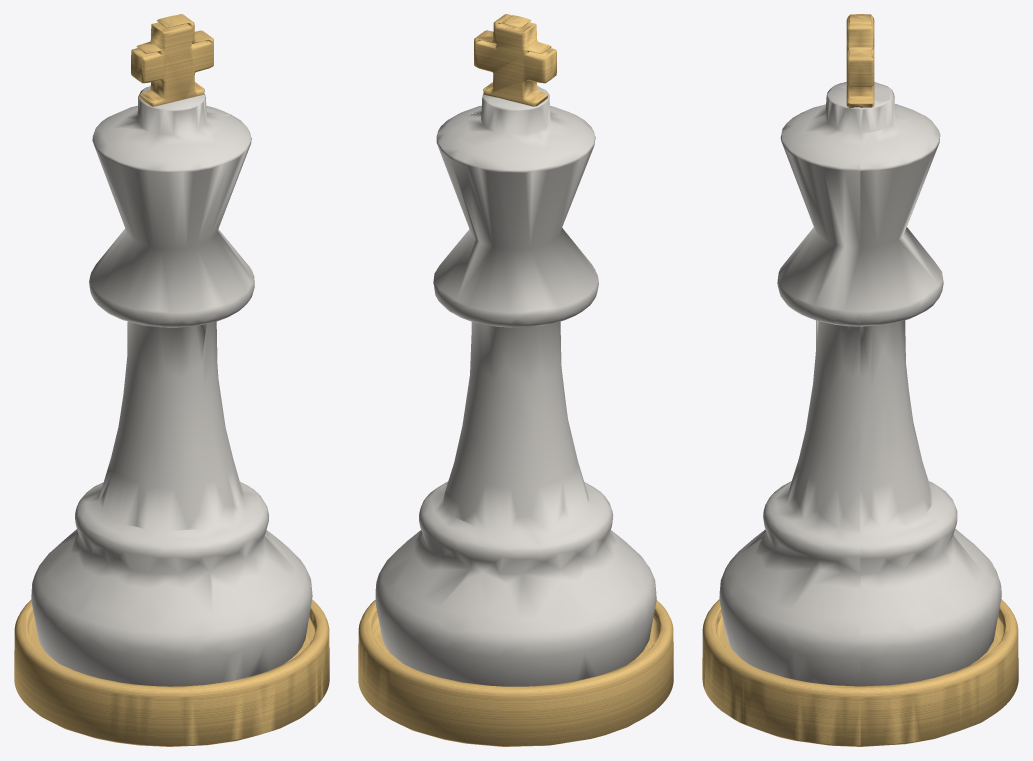
File: king-white.glb
3 views of the same model, side by side, from view 1: azimuth 30°, elevation 25°; view 2: azimuth 150°, elevation 25°; view 3: azimuth 270°, elevation 25° (orthographic).
Parts seen in each view (by area): view 1: Aurum Ivoire – King; view 2: Aurum Ivoire – King; view 3: Aurum Ivoire – King.
Part boxes in pixels (<box>): Aurum Ivoire – King: <box>14,14,329,746</box>; Aurum Ivoire – King: <box>358,14,673,746</box>; Aurum Ivoire – King: <box>702,14,1018,746</box>.
Bounding box in the file's own units: 0.7141 × 1.65 × 0.7139.
Materials: 2 (1 with a texture image).
